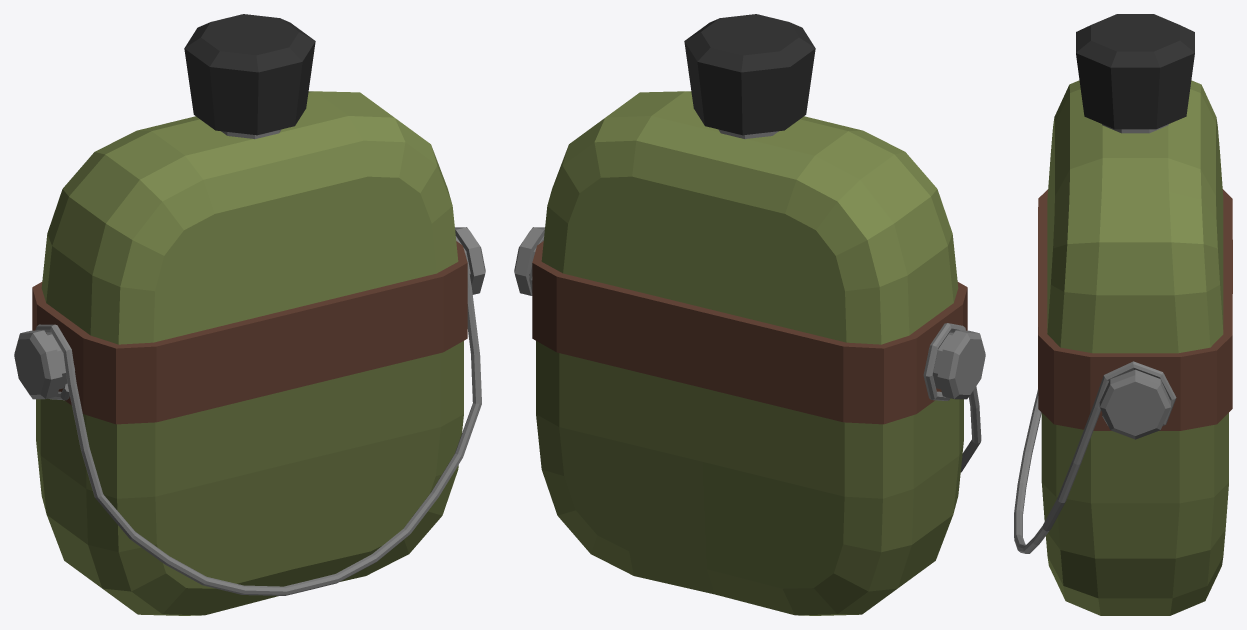
Rendered from Canteen.glb.
3 renders of one model, left to right at view 1: azimuth 30°, elevation 25°; view 2: azimuth 150°, elevation 25°; view 3: azimuth 270°, elevation 25°, orthographic. The views are drawn at different scales.
Parts seen in each view (by area): view 1: Canteen (Bottle), Canteen Support; view 2: Canteen (Bottle), Canteen Support; view 3: Canteen (Bottle), Canteen Support.
Boxes of the visible parts, left/top/right/bottom form: Canteen (Bottle): left=32, top=14, right=467, bottom=615; Canteen Support: left=14, top=227, right=485, bottom=595; Canteen (Bottle): left=532, top=14, right=967, bottom=615; Canteen Support: left=514, top=227, right=985, bottom=472; Canteen (Bottle): left=1038, top=14, right=1232, bottom=615; Canteen Support: left=1014, top=361, right=1176, bottom=553.
Size of the model in its own units: 0.6937 by 0.825 by 0.3062.
1 material, 1 textured.
